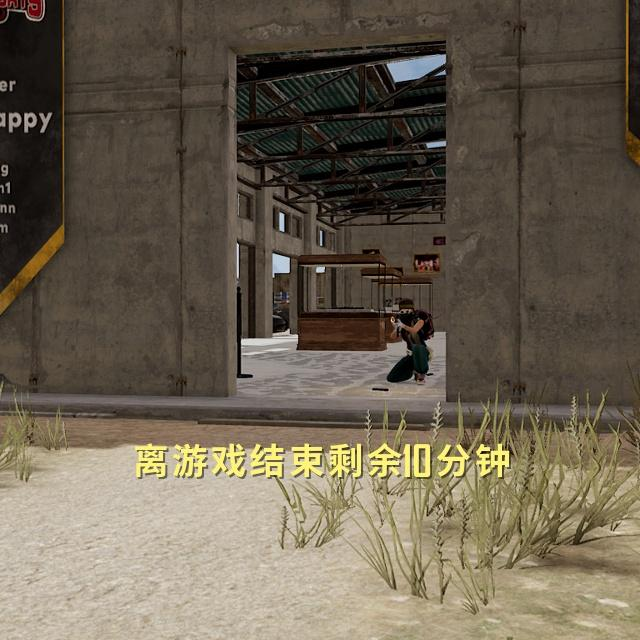head: (398, 297, 417, 321)
people: (387, 297, 434, 386)
